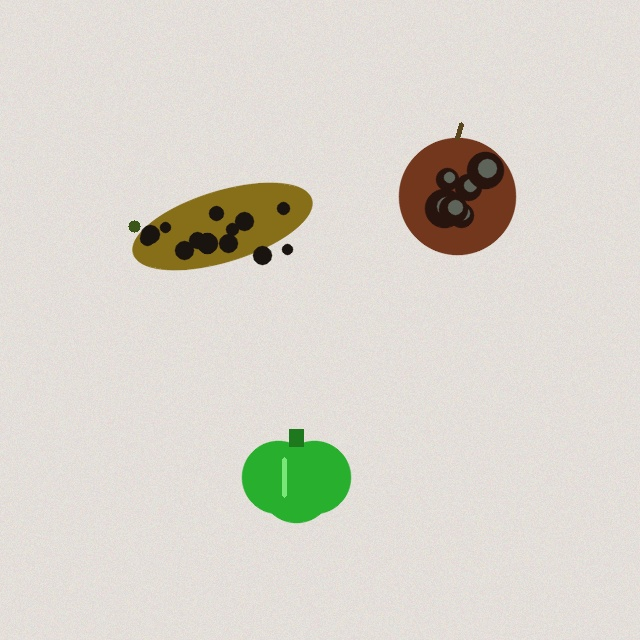Fresh bell pepper: (242, 429, 350, 522)
Rotten apple: (399, 124, 515, 254)
Rotten banana: (125, 183, 319, 269)
